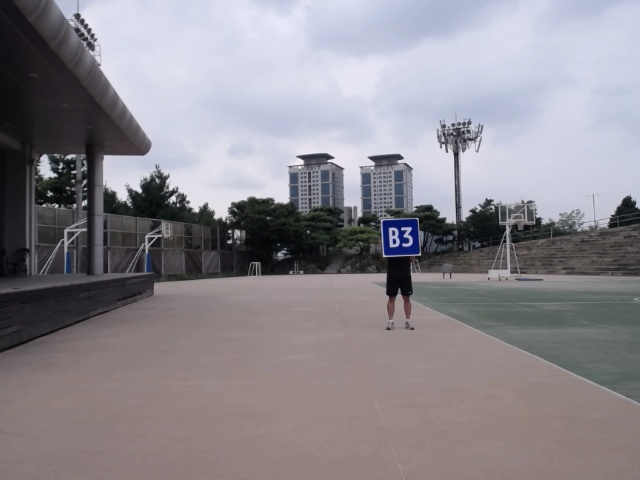delivery_b3: (380, 217, 423, 259)
